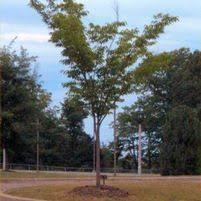tree: (31, 1, 179, 189)
